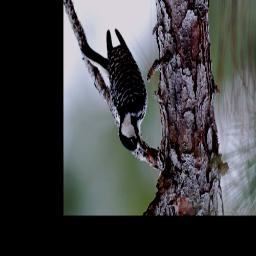Woodpecker: (81, 28, 150, 157)
